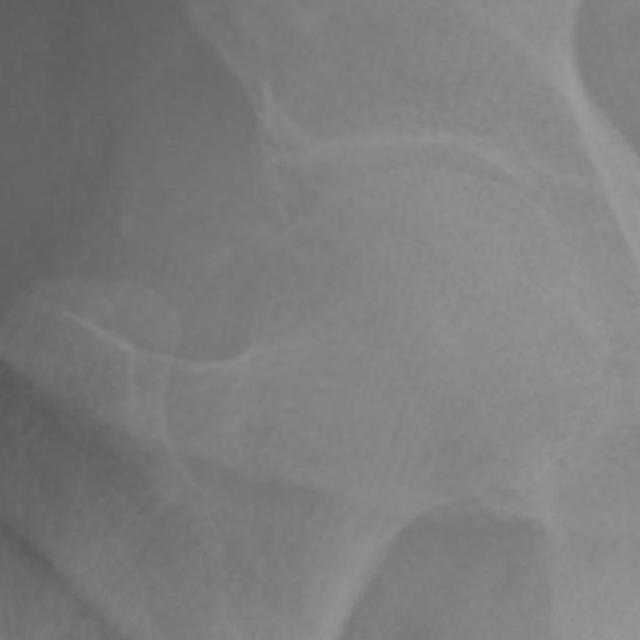Fitted_femural_head: (352, 165, 432, 352)
